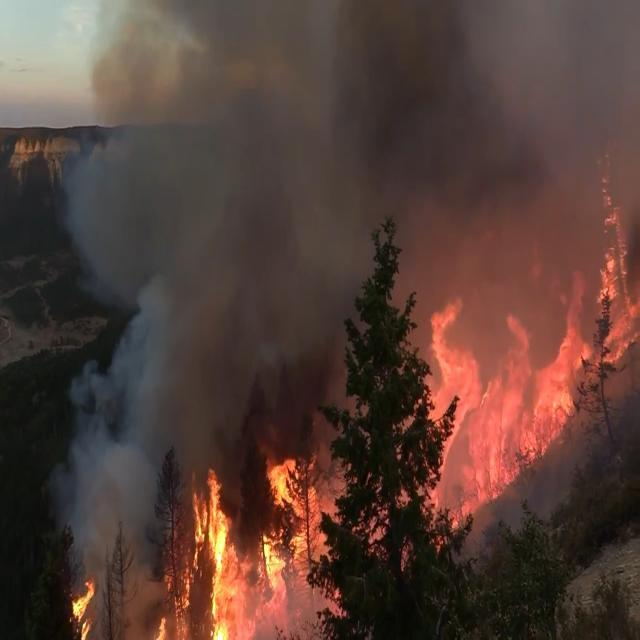Fire: (67, 159, 640, 640)
